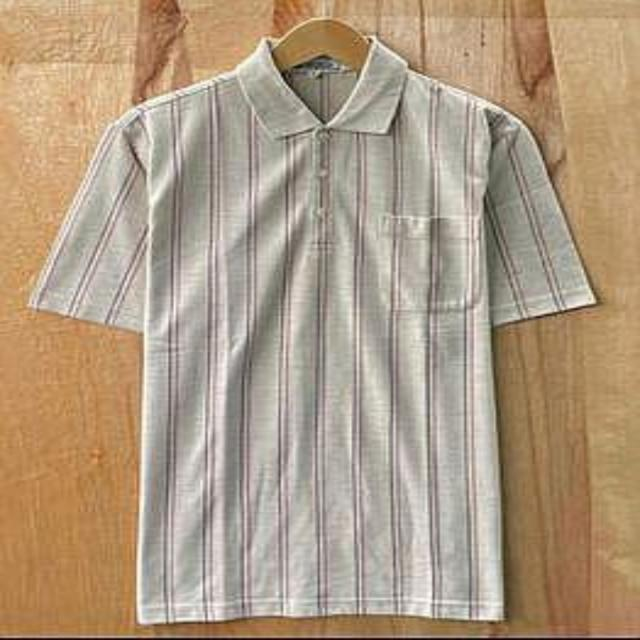SHIRT: (27, 25, 613, 634)
